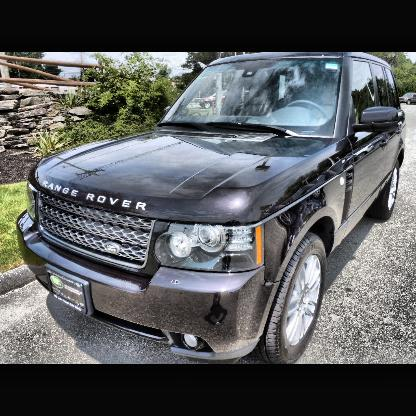Land Rover Range Rover SUV 2012: (16, 54, 409, 365)
